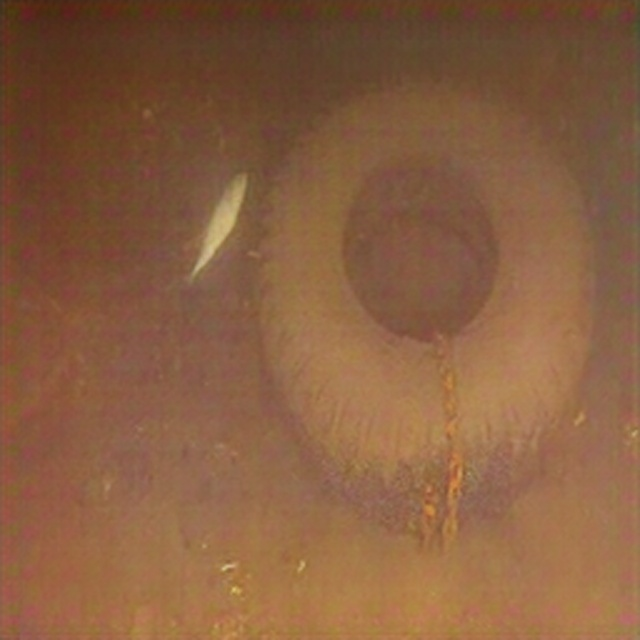mine: (255, 75, 598, 537)
